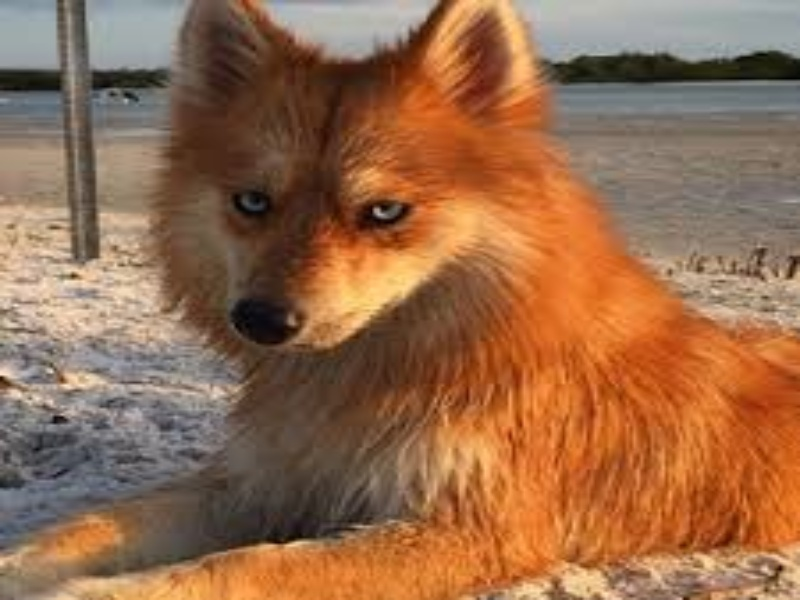dog: (112, 4, 735, 580)
